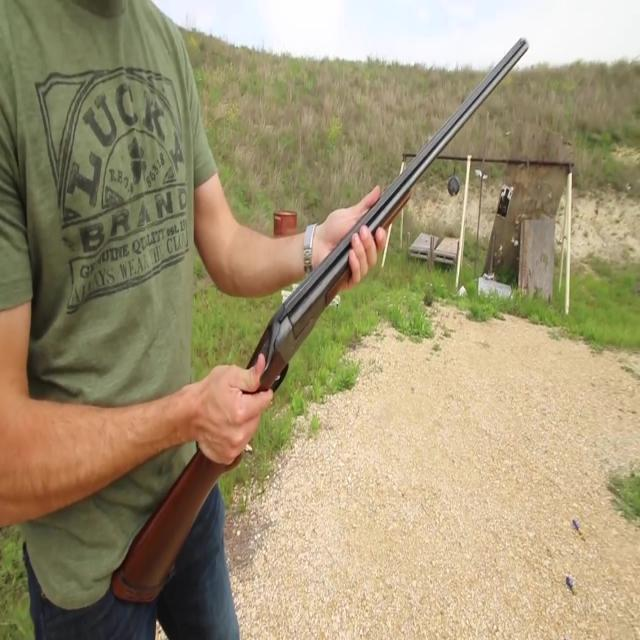Weapon: (94, 30, 557, 618)
